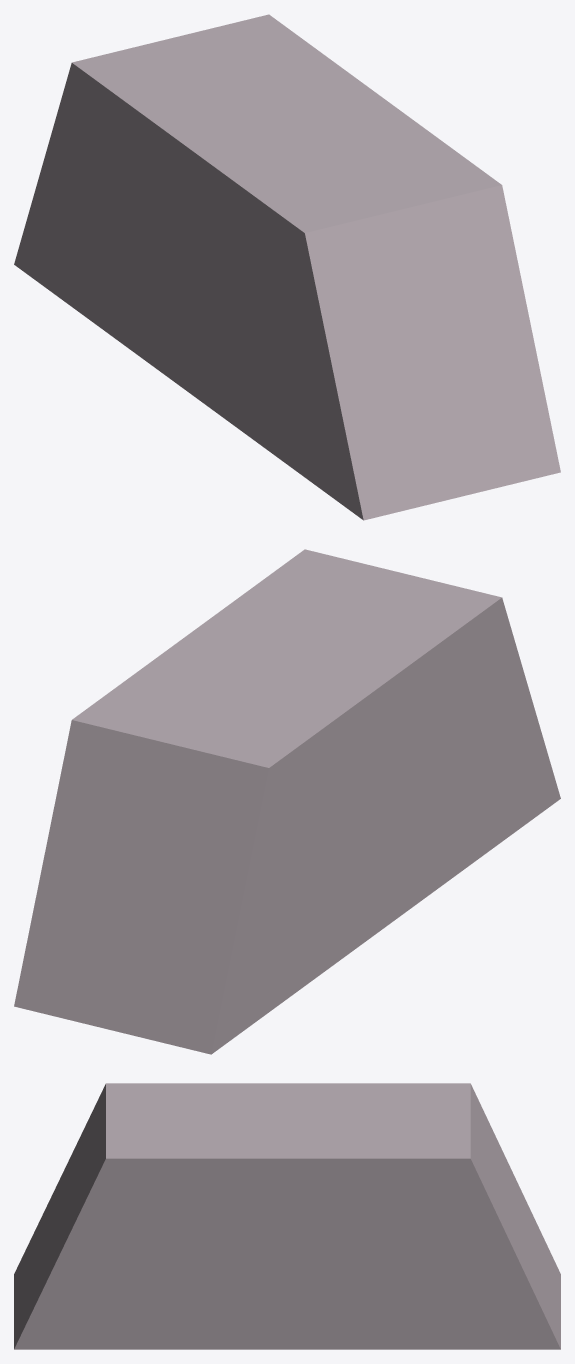
File: Stone.obj
3 views of the same model, one above another, from view 1: azimuth 30°, elevation 25°; view 2: azimuth 150°, elevation 25°; view 3: azimuth 270°, elevation 25° (orthographic). The views are drawn at different scales.
Visible parts, largest first — view 1: Cube_Cube.001; view 2: Cube_Cube.001; view 3: Cube_Cube.001.
Part boxes in pixels (x1,y1,x2,y2): Cube_Cube.001: (14, 14, 560, 520); Cube_Cube.001: (14, 549, 560, 1054); Cube_Cube.001: (14, 1083, 560, 1349).
Size of the model in its own units: 0.1952 by 0.2309 by 0.599.
